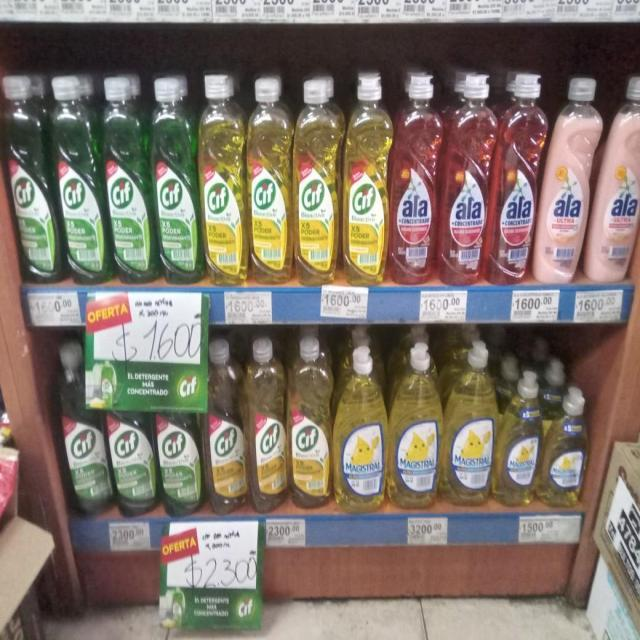ala_conc_rojo: (442, 71, 492, 287), (391, 71, 438, 285), (493, 71, 538, 287)
ala_ultra_rosa: (540, 74, 590, 284), (593, 76, 639, 284)
cif_conc_bot_amarilla: (342, 70, 388, 284), (247, 73, 292, 284), (294, 74, 339, 284), (201, 70, 245, 284), (288, 335, 332, 510), (205, 338, 245, 515), (248, 337, 286, 513)
cif_conc_botella_verde: (6, 74, 54, 285), (56, 74, 103, 285), (104, 74, 150, 284), (153, 74, 198, 284), (54, 344, 108, 518), (110, 407, 155, 517), (158, 408, 201, 516)
magistral_con_amarillo: (389, 342, 442, 512), (335, 344, 386, 514), (445, 344, 495, 508), (498, 369, 541, 507), (544, 387, 590, 509)
